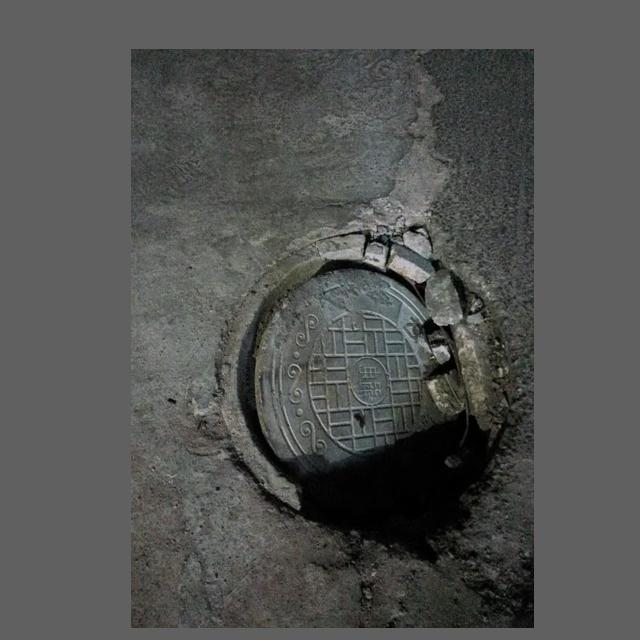circle: (206, 230, 522, 541)
